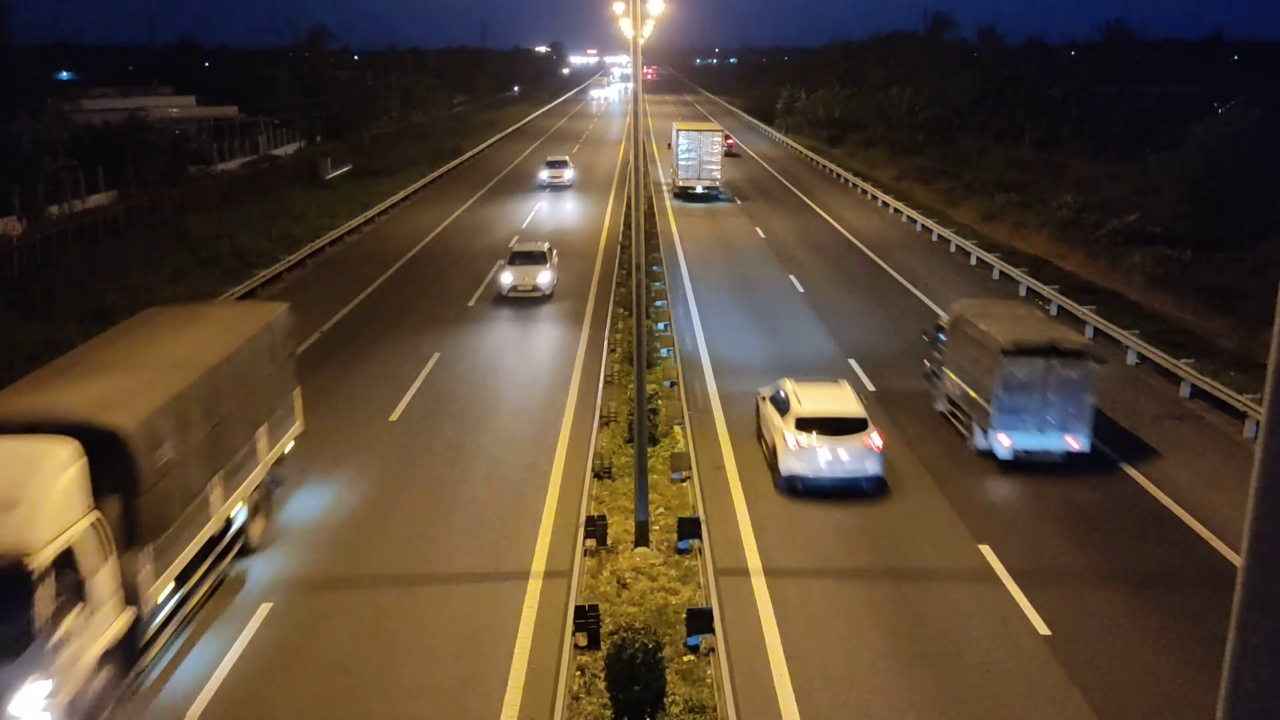car: (754, 375, 889, 497), (494, 239, 559, 301), (537, 156, 576, 191)
truck: (3, 296, 309, 717), (919, 297, 1105, 465), (668, 121, 725, 197)
